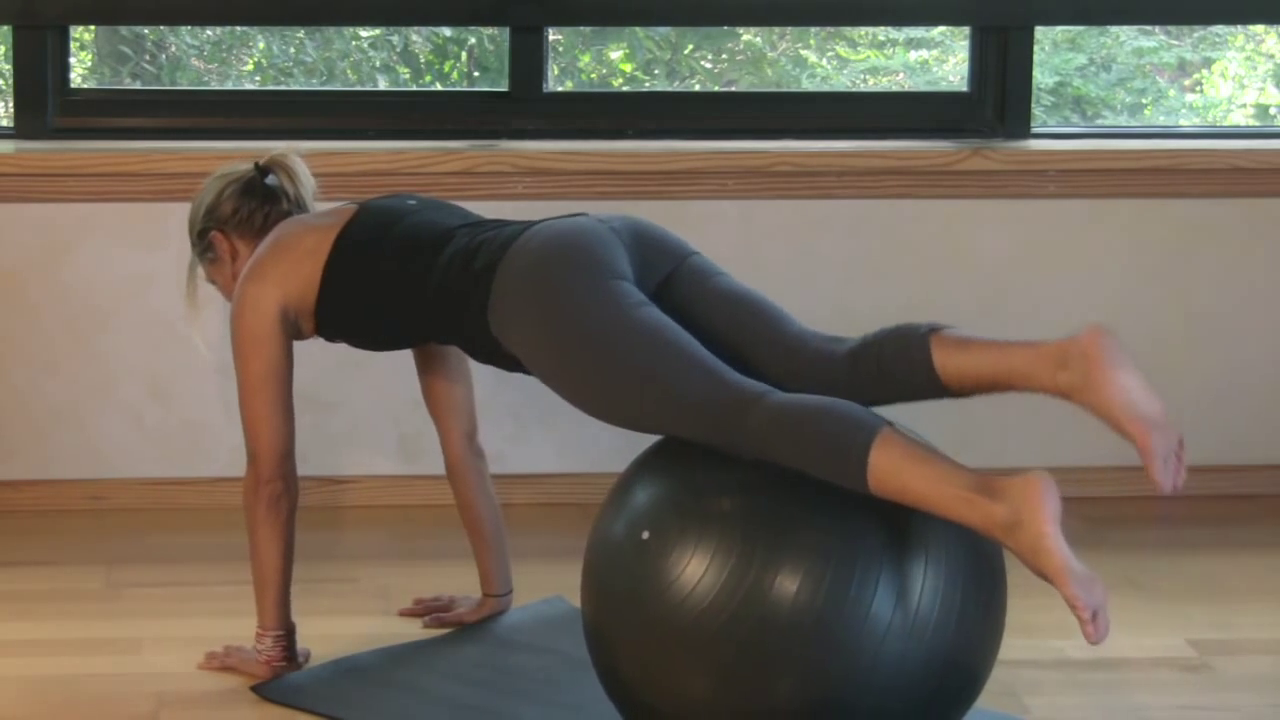yogaball: (569, 431, 1025, 720)
